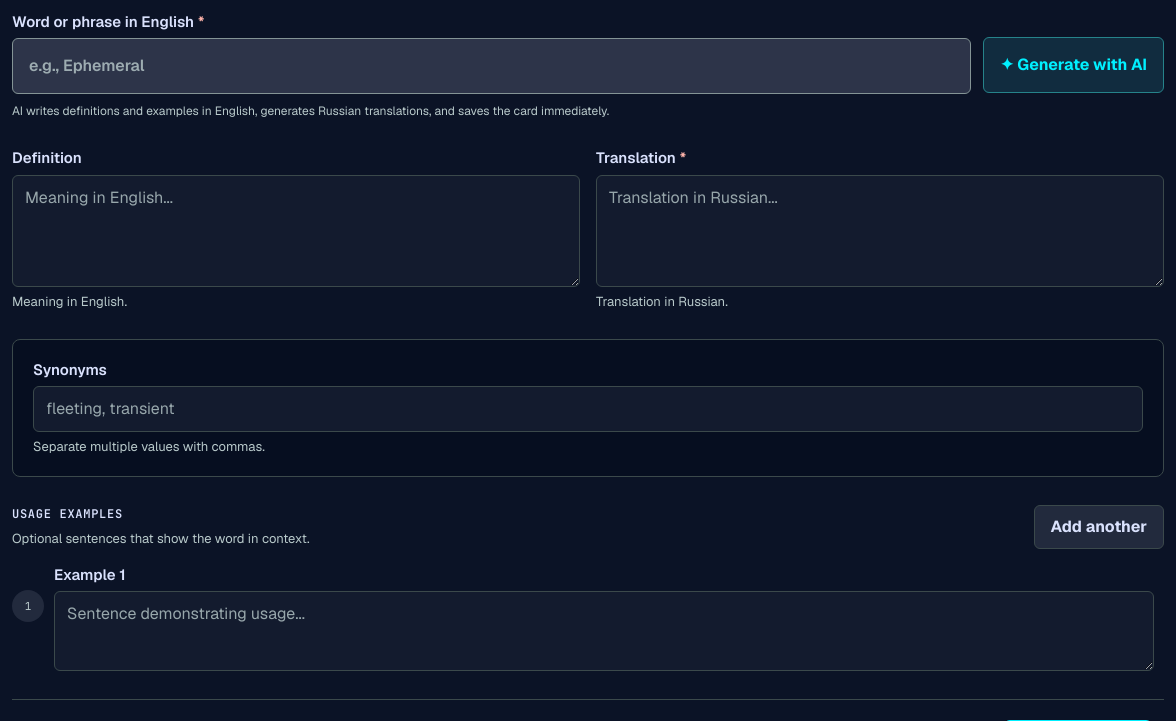
AddCardForm › shows the AI loading state and locks manual fields
Type "Ephemeral" into the field labelled "Word or phrase in English" at (492, 66), box [12,38,971,94]
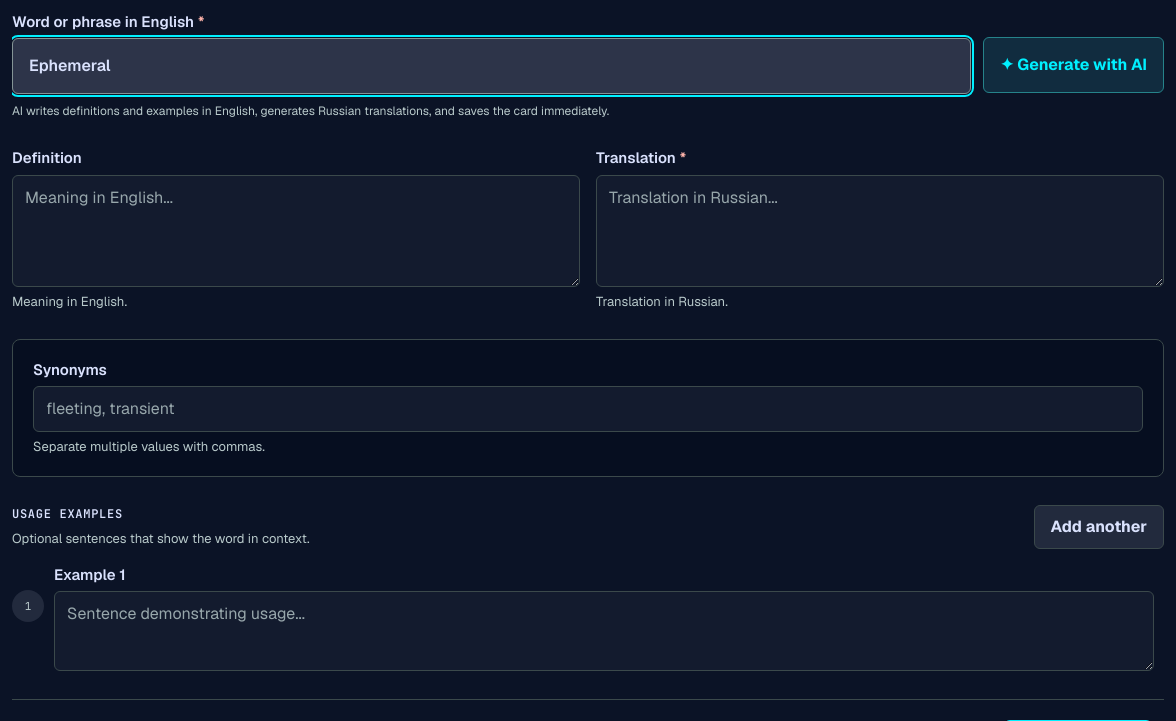
Click the button "✦ Generate with AI" at (1074, 65), box [983,37,1164,93]
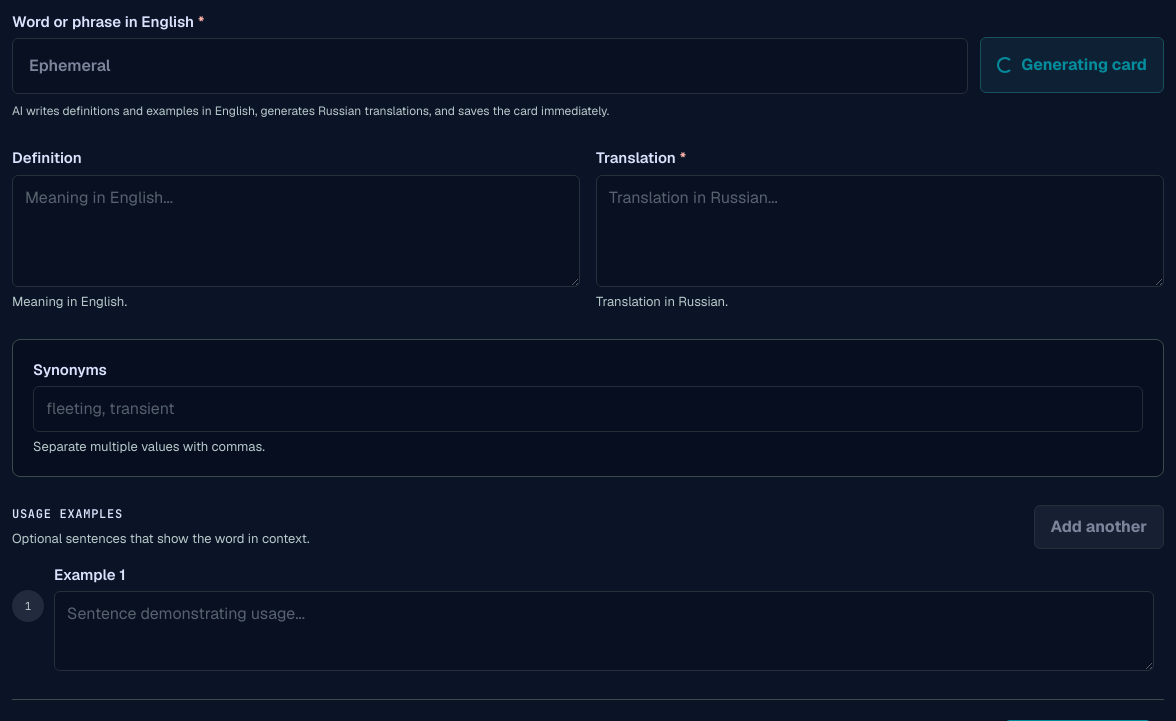
Expected: the text box labelled "Definition" is disabled, [12,174,580,286]
Result: the button "Generating card" is disabled at [980,37,1164,93]
